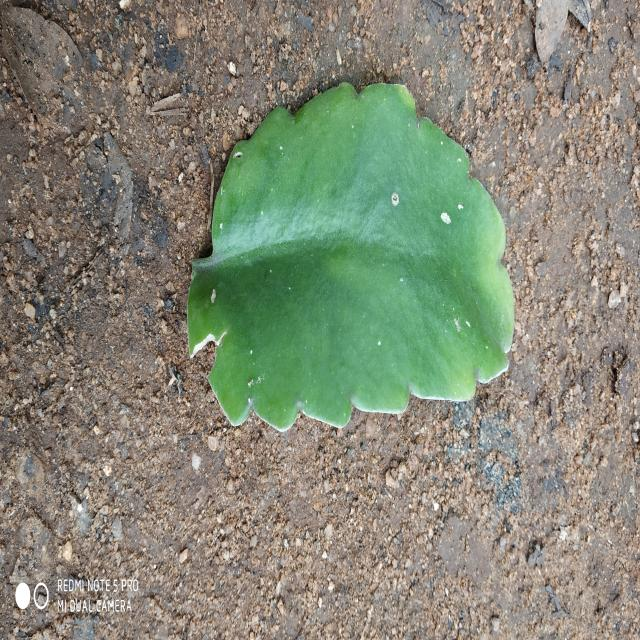defectedspinach: (354, 98, 505, 311)
spinach: (188, 82, 514, 431)
